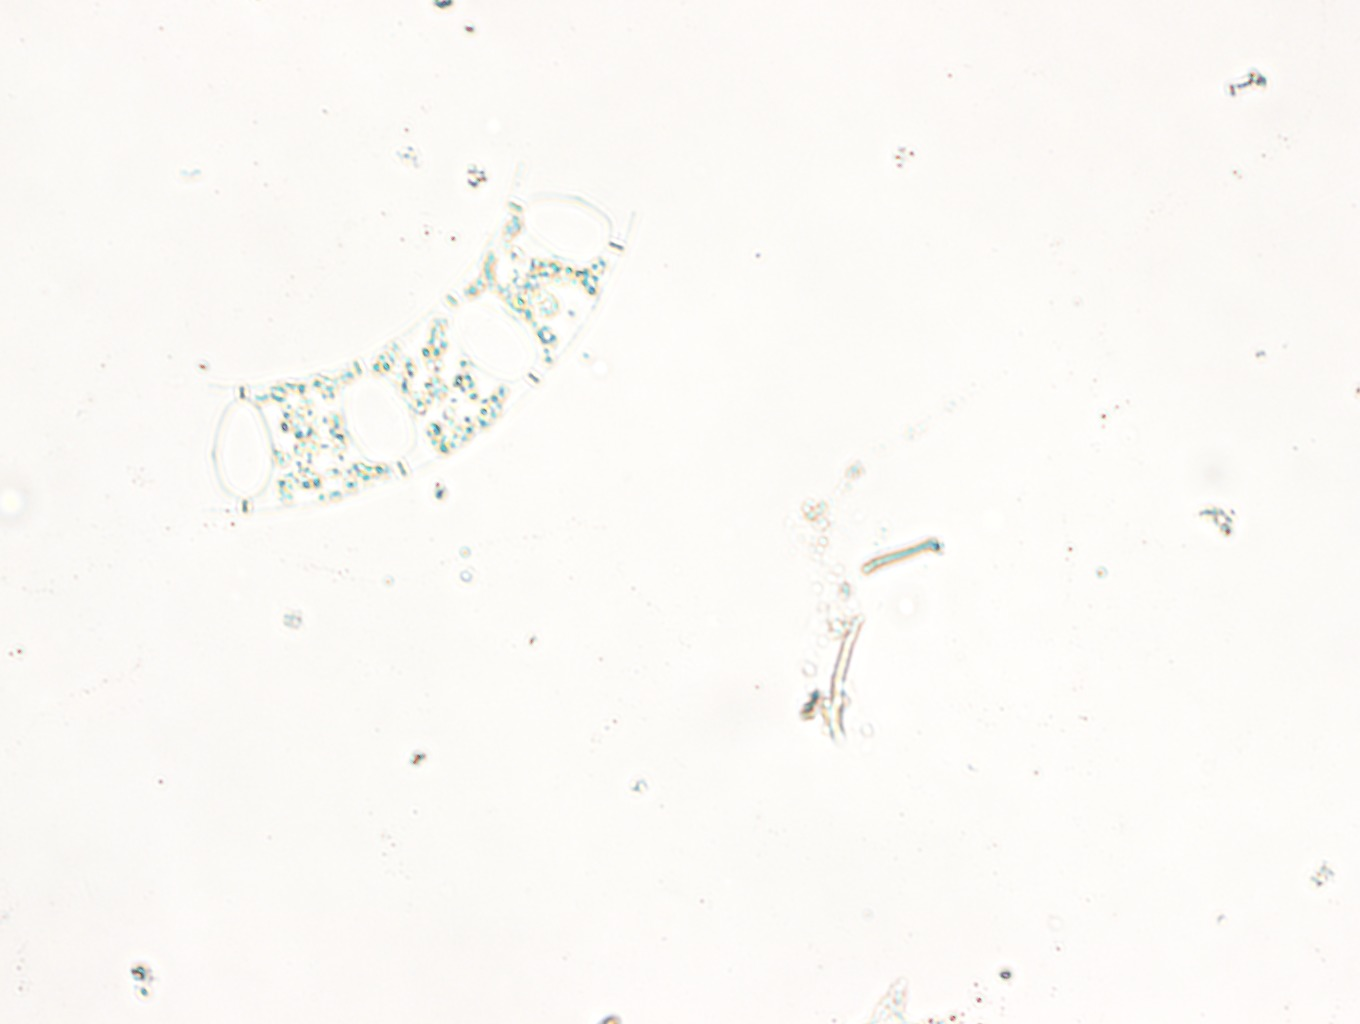eucampia: (185, 145, 638, 516)
